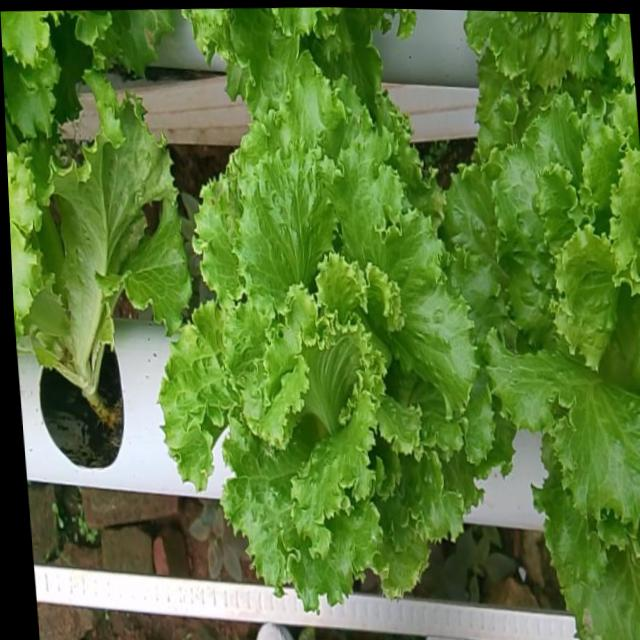Mature: (161, 88, 498, 628), (447, 105, 640, 547)
